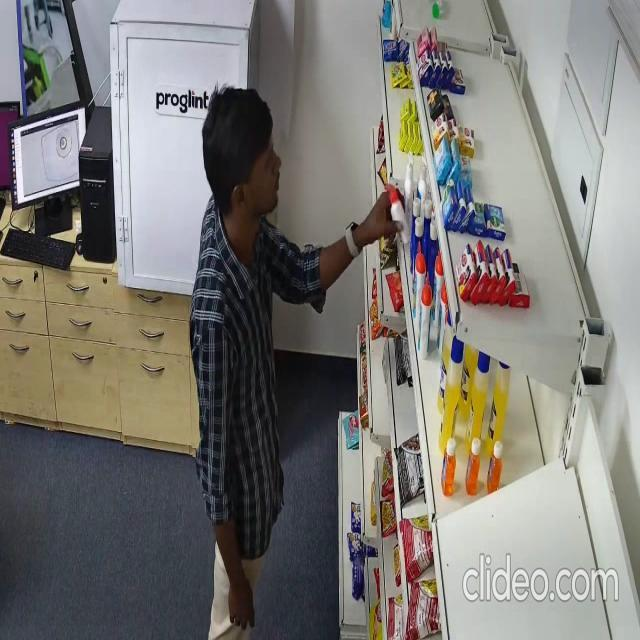normal: (191, 82, 411, 640)
